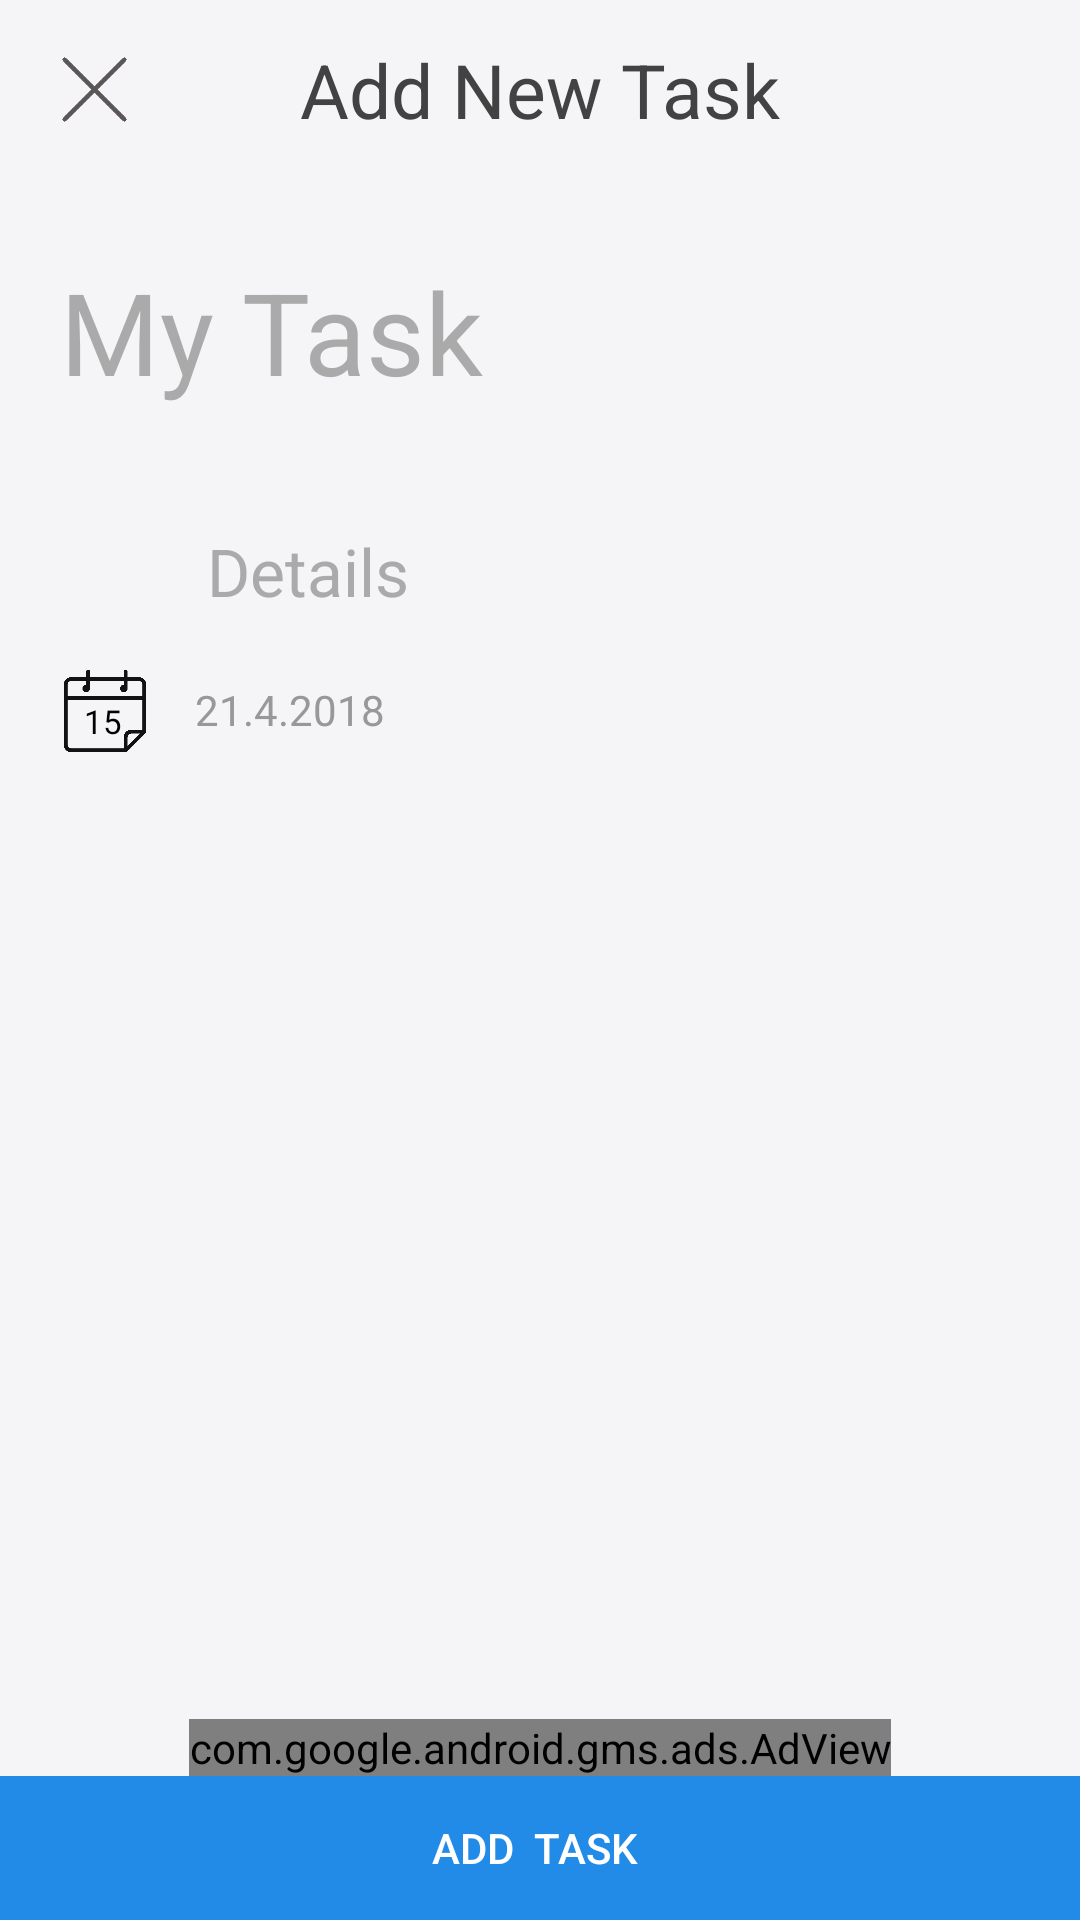

Where to tap for icons on this 1080x1920 app screen, as [x,y]:
calendars: [105,711]
